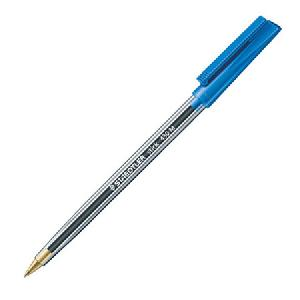pen: (18, 12, 285, 283)
